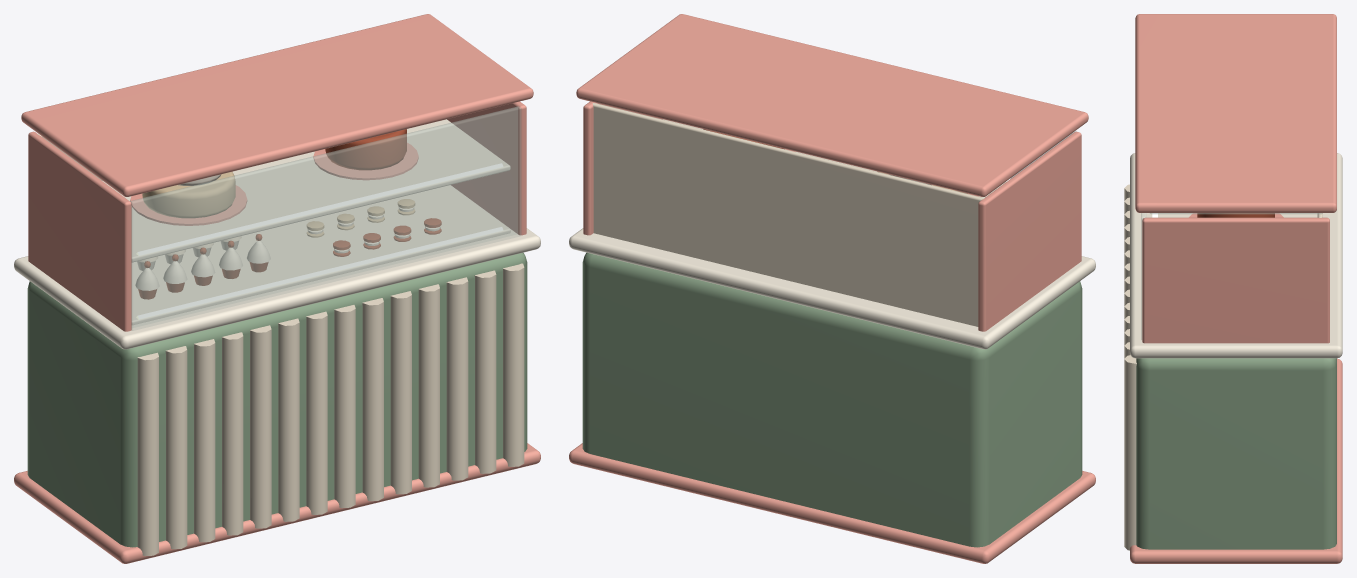
The model's file is display_case_pastry.glb.
The picture shows the model from 3 angles, left to right: view 1: azimuth 30°, elevation 25°; view 2: azimuth 150°, elevation 25°; view 3: azimuth 270°, elevation 25°; orthographic projection. The views are drawn at different scales.
Visible parts, largest first — view 1: display_case_pastry; view 2: display_case_pastry; view 3: display_case_pastry.
Boxes of the visible parts, x1,y1,x2,y2 form: display_case_pastry: (14,14,540,563); display_case_pastry: (569,14,1095,563); display_case_pastry: (1124,14,1342,563).
Bounding box in the file's own units: 1.66 × 1.43 × 0.78.
